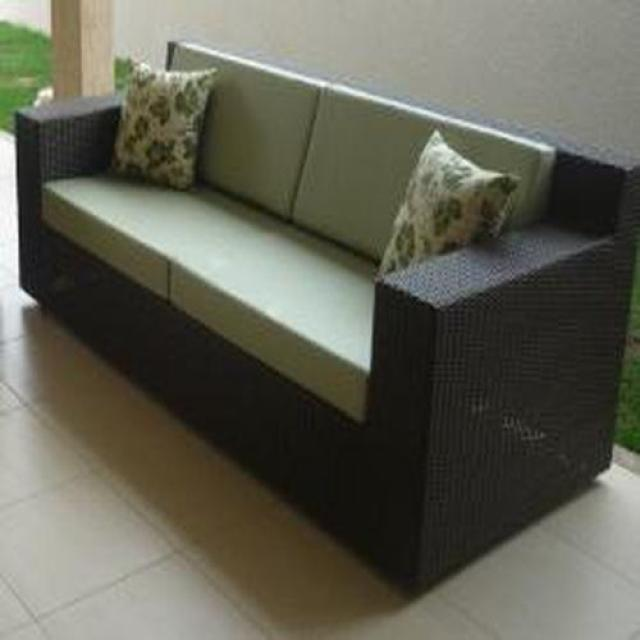sofa: (13, 46, 631, 577)
